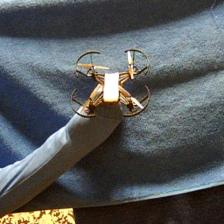drone: (72, 48, 152, 121)
